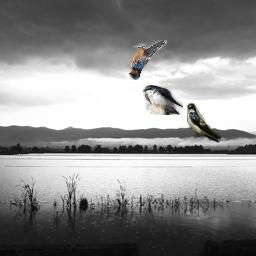Swallow: (129, 40, 167, 80), (187, 103, 221, 143), (143, 85, 183, 115)
